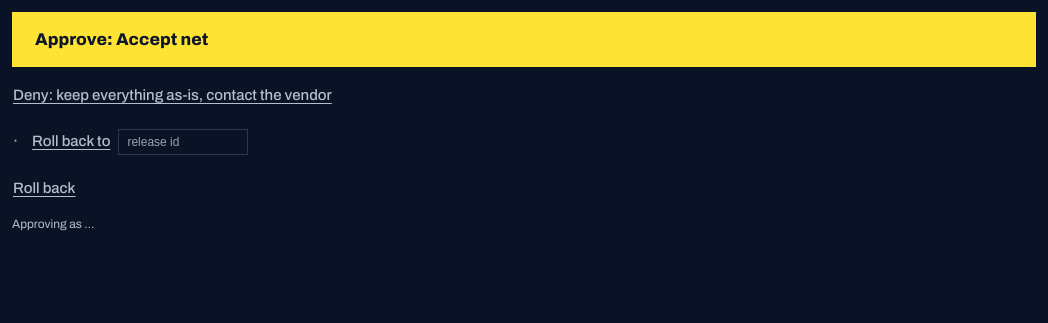
RepairActions › escalation with a proposal denies via reject and keeps the error (REQ-049)
Click the button with test id "repair-deny-btn": click(172, 95) [12,77,1036,114]
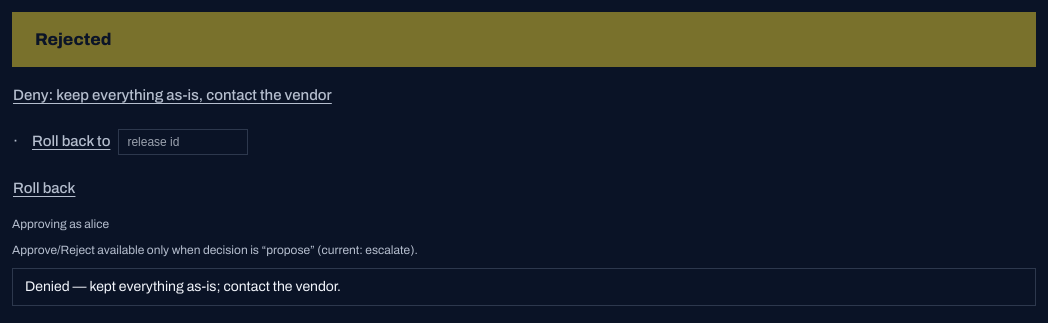
Expected: the text with test id "repair-action-success" shows "kept everything as-is", [25,279,341,294]
